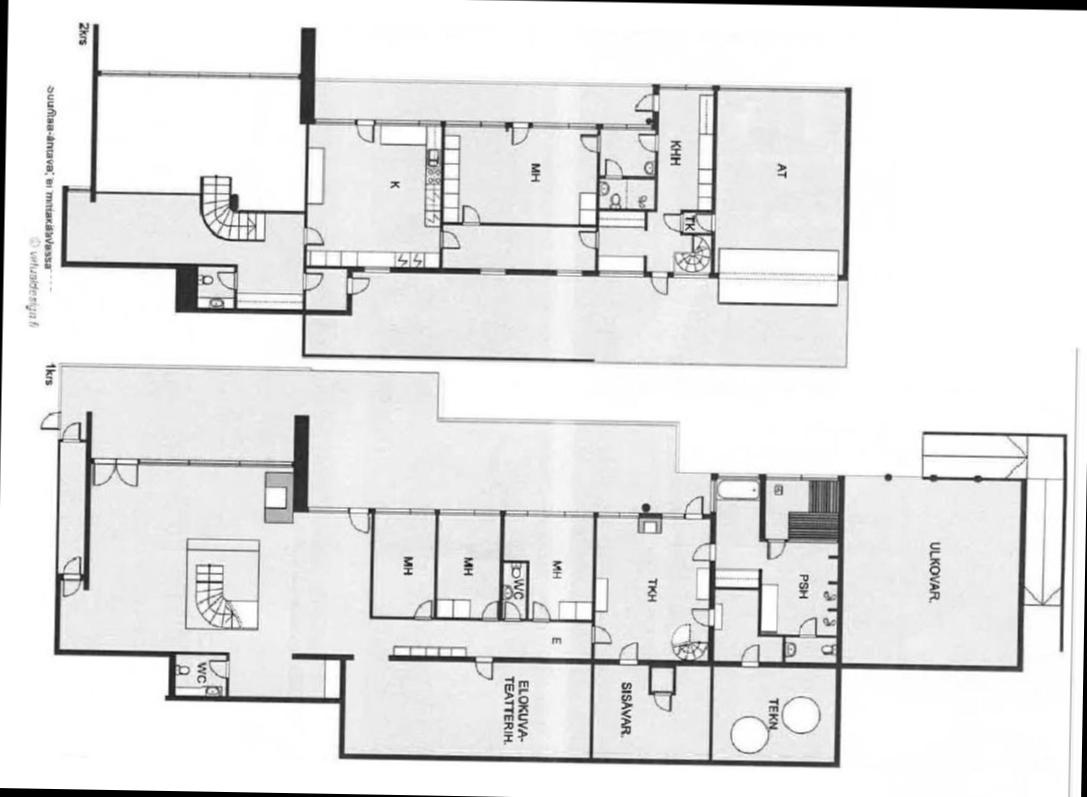door: (111, 454, 142, 488), (734, 642, 765, 672), (646, 262, 670, 300), (88, 455, 116, 486), (212, 266, 243, 294), (688, 601, 717, 630), (470, 653, 498, 683), (586, 618, 614, 648), (57, 571, 84, 602), (681, 489, 706, 521), (575, 225, 602, 252), (613, 638, 639, 666), (59, 553, 83, 583), (354, 114, 376, 146), (692, 539, 718, 566), (630, 90, 658, 115), (795, 612, 819, 641), (202, 656, 230, 680), (36, 408, 63, 432), (58, 422, 84, 446), (764, 536, 788, 562), (634, 130, 662, 152), (508, 119, 530, 147), (298, 225, 326, 247), (578, 130, 601, 156), (459, 201, 482, 227), (650, 688, 671, 716), (300, 266, 321, 294), (412, 597, 435, 621), (476, 596, 499, 620), (527, 596, 550, 620), (439, 227, 461, 252), (658, 210, 682, 232), (501, 599, 521, 625), (344, 276, 369, 296), (601, 156, 622, 178), (692, 212, 716, 229)
window: (713, 84, 850, 94), (236, 454, 294, 471), (438, 112, 482, 133), (594, 268, 648, 284), (308, 110, 356, 128), (184, 454, 240, 469), (792, 468, 844, 483), (524, 116, 568, 132), (374, 114, 422, 128), (136, 456, 191, 468), (302, 504, 352, 517), (566, 114, 600, 133), (245, 70, 303, 81), (98, 66, 151, 78), (192, 70, 251, 80), (433, 504, 475, 518), (476, 114, 508, 132), (667, 268, 714, 280), (368, 504, 411, 517), (146, 68, 200, 78), (415, 112, 444, 130), (757, 470, 804, 481), (708, 473, 765, 482), (405, 502, 437, 518), (650, 81, 688, 94), (548, 266, 589, 278), (475, 264, 510, 278), (526, 508, 566, 520), (595, 118, 627, 133), (681, 81, 716, 94), (62, 181, 94, 195), (357, 262, 394, 274), (558, 509, 597, 520), (469, 505, 502, 517), (622, 118, 655, 130), (590, 508, 620, 520), (709, 476, 719, 510), (656, 510, 686, 520), (615, 508, 640, 519), (502, 507, 530, 516)
